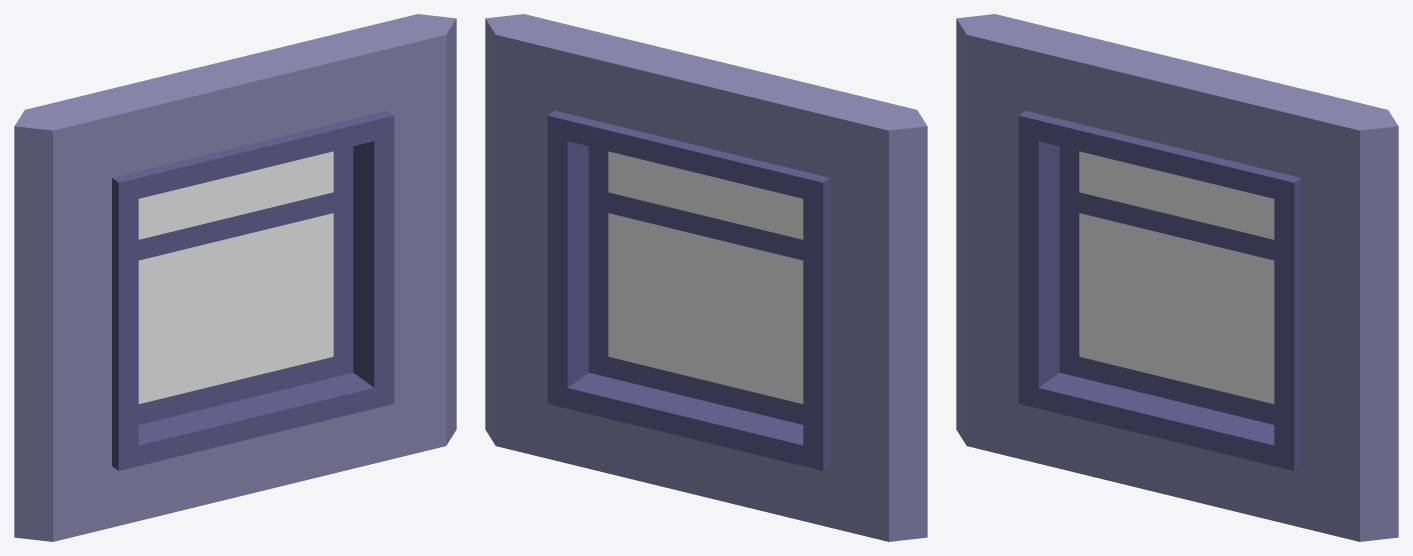
The model's file is window_squareGlassLarge.fbx.
The picture shows the model from 3 angles, left to right: view 1: azimuth 30°, elevation 25°; view 2: azimuth 150°, elevation 25°; view 3: azimuth 330°, elevation 25°; orthographic projection.
Visible parts, largest first — view 1: window_squareGlassLarge; view 2: window_squareGlassLarge; view 3: window_squareGlassLarge.
Boxes of the visible parts, x1,y1,x2,y2 form: window_squareGlassLarge: (14,14,456,541); window_squareGlassLarge: (485,14,927,541); window_squareGlassLarge: (956,14,1398,541).
Bounding box in the file's own units: 11.25 × 10 × 1.85.
